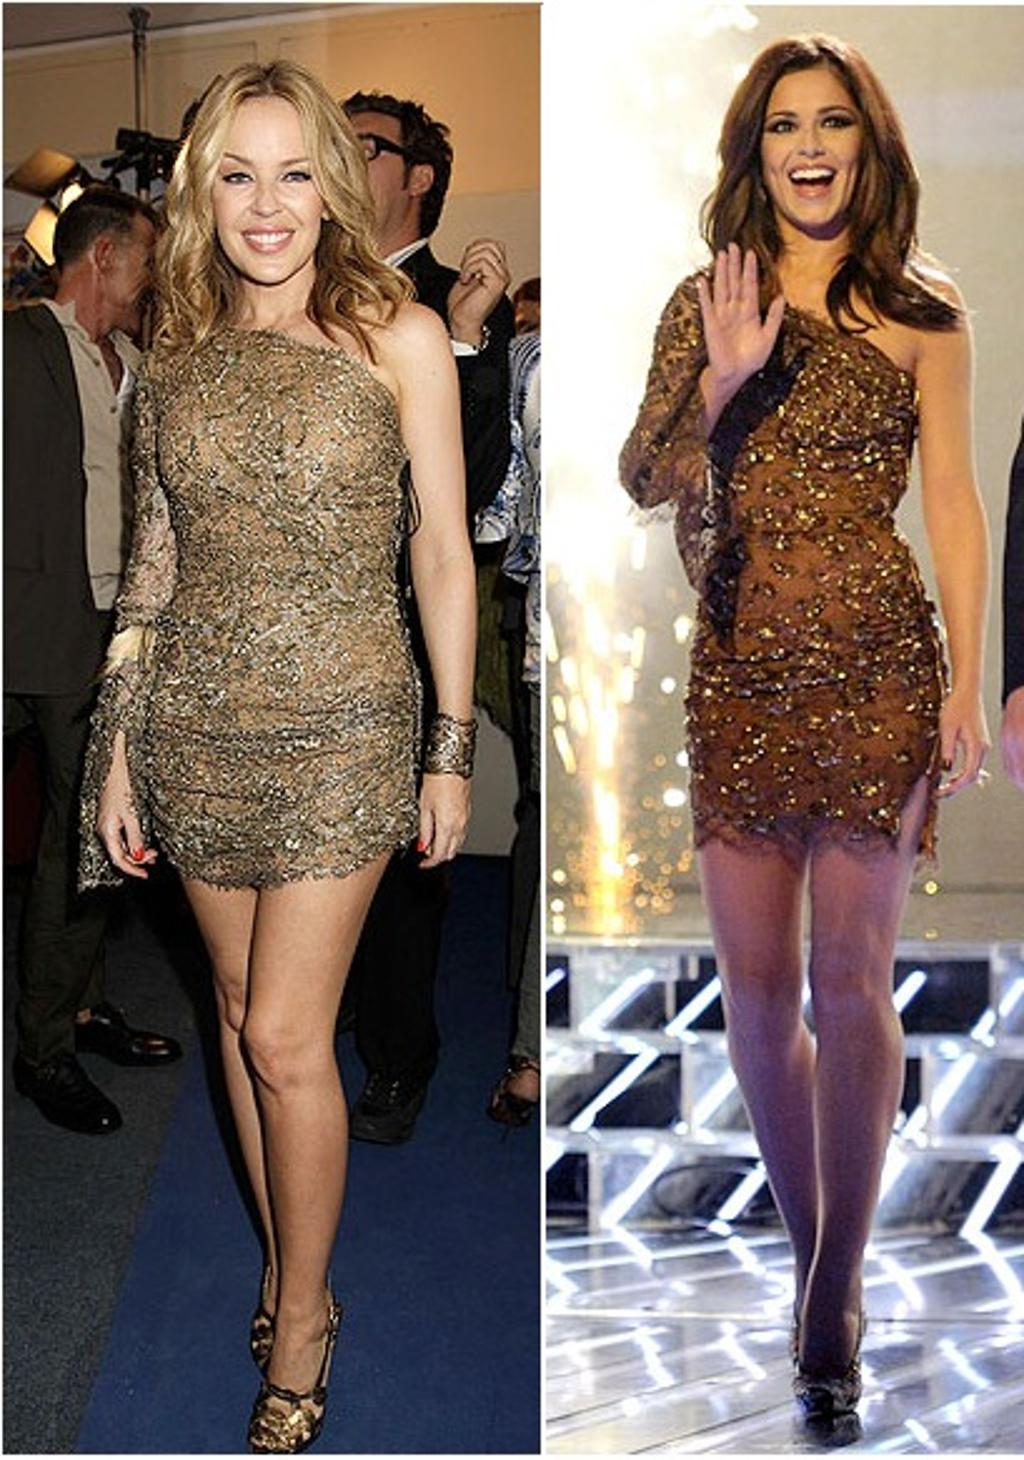face: (211, 103, 322, 288), (759, 66, 865, 226), (325, 108, 408, 245), (111, 203, 162, 337)
